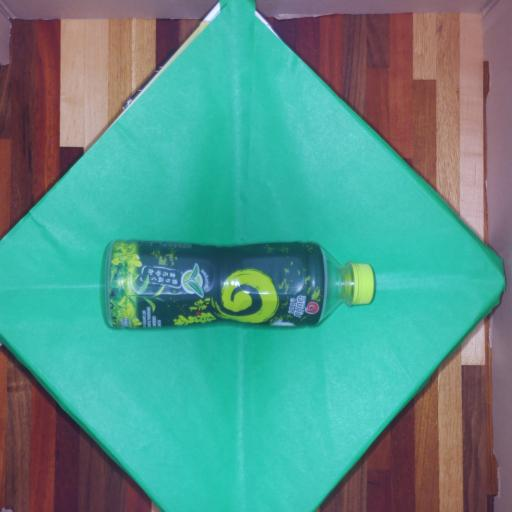bottle: (103, 240, 375, 330)
